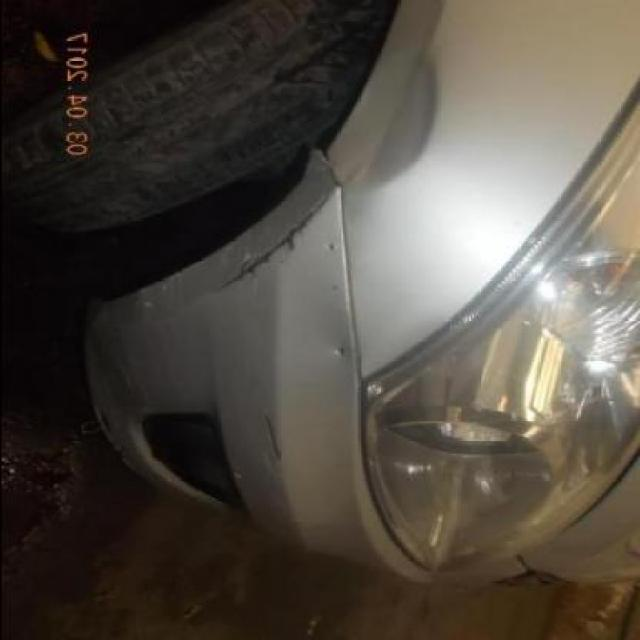damage: (81, 271, 194, 468), (312, 47, 439, 193), (207, 187, 337, 291), (255, 403, 290, 461), (330, 341, 356, 359), (326, 278, 343, 296), (324, 239, 336, 252)
